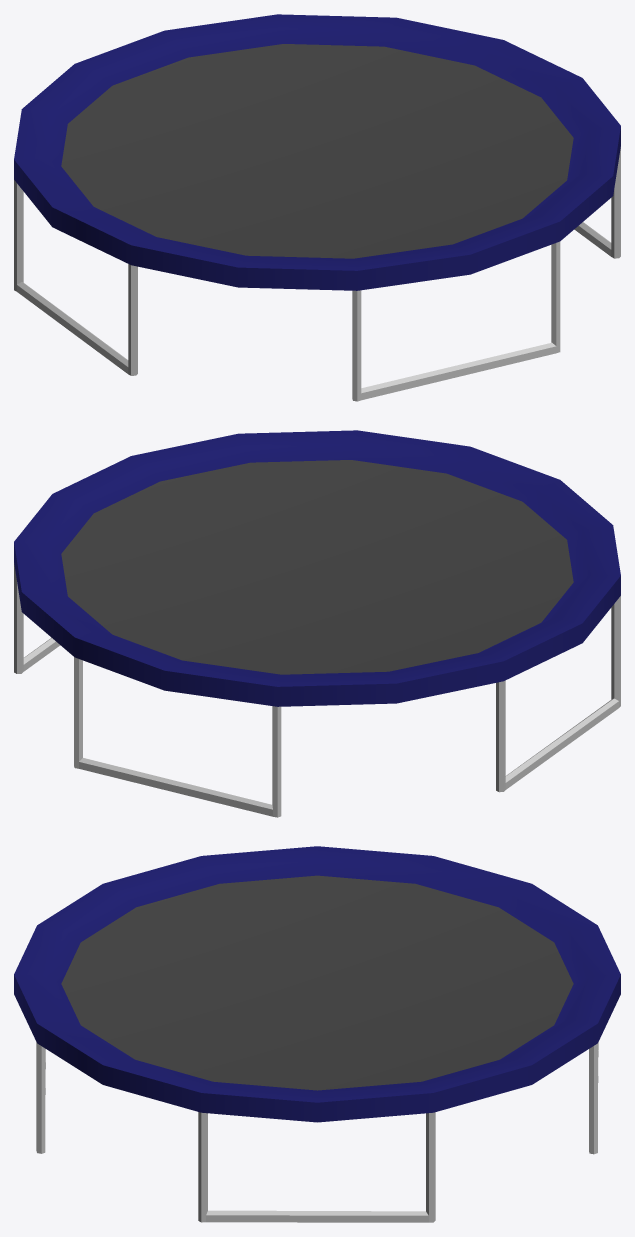
The model's file is Trampoline_01.fbx.
3 renders of one model, top to bottom at view 1: azimuth 30°, elevation 25°; view 2: azimuth 150°, elevation 25°; view 3: azimuth 270°, elevation 25°, orthographic.
Parts seen in each view (by area): view 1: Trampoline_01; view 2: Trampoline_01; view 3: Trampoline_01.
Boxes of the visible parts, box(x1,y1,x2,y2) form: Trampoline_01: box(14, 14, 620, 401); Trampoline_01: box(14, 430, 620, 817); Trampoline_01: box(14, 846, 620, 1222).
Size of the model in its own units: 24.05 by 5.66 by 24.05.
